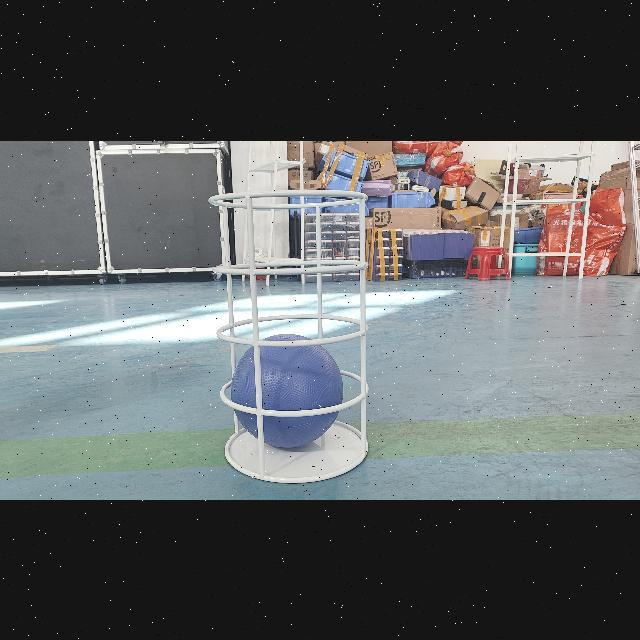B: (232, 333, 342, 449)
S: (206, 186, 377, 487)
